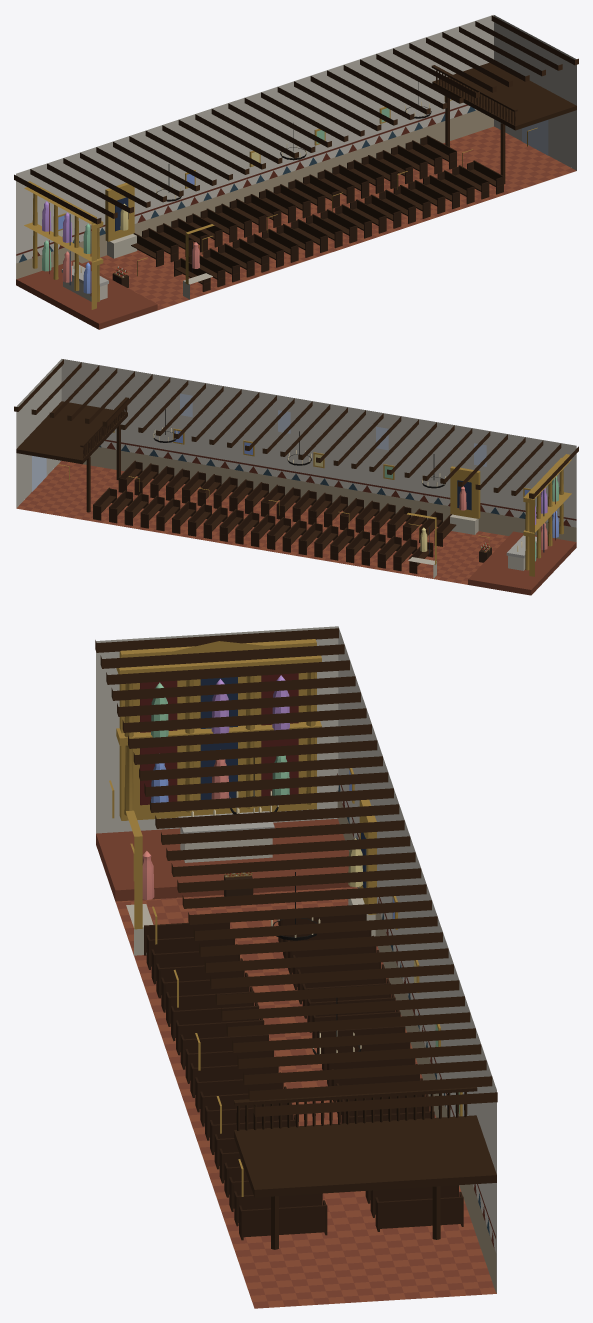
File: missionDolores_int.glb
3 renders of one model, top to bottom at view 1: azimuth 30°, elevation 25°; view 2: azimuth 150°, elevation 25°; view 3: azimuth 270°, elevation 25°, orthographic. The views are drawn at different scales.
Parts seen in each view (by area): view 1: I_x_veneer, I_x_plaster, I_tiles, I_x_gold, I_paint, I_sky; view 2: I_x_plaster, I_x_veneer, I_tiles, I_x_gold, I_paint, I_sky; view 3: I_x_veneer, I_tiles, I_x_plaster, I_x_gold, I_paint.
Boxes of the visible parts, box(x1,y1,x2,y2) form: I_x_veneer: box(14, 15, 578, 291); I_x_plaster: box(16, 15, 576, 301); I_tiles: box(16, 126, 576, 329); I_x_gold: box(24, 96, 537, 309); I_paint: box(42, 99, 450, 293); I_sky: box(522, 120, 548, 155); I_x_plaster: box(16, 359, 576, 578); I_x_veneer: box(14, 359, 578, 573); I_tiles: box(16, 460, 576, 595); I_x_gold: box(58, 428, 571, 576); I_paint: box(174, 430, 558, 561); I_sky: box(32, 393, 486, 491); I_x_veneer: box(95, 628, 497, 1249); I_tiles: box(96, 818, 496, 1308); I_x_plaster: box(96, 626, 496, 1293); I_x_gold: box(109, 639, 462, 1196); I_paint: box(142, 675, 459, 1114).
Bounding box in the file's own units: 33.57 × 6.6 × 11.82.
